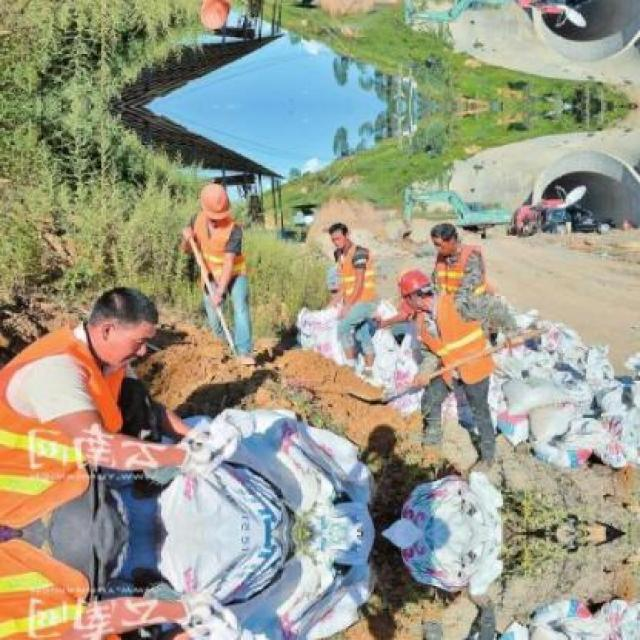Reflective-Jacket: (0, 327, 120, 517), (423, 294, 500, 388), (180, 212, 251, 298), (326, 243, 382, 314), (428, 241, 489, 299)
Safety-Helmet: (426, 242, 489, 299), (192, 179, 235, 224), (392, 267, 436, 304), (426, 218, 465, 245), (323, 216, 355, 242)
